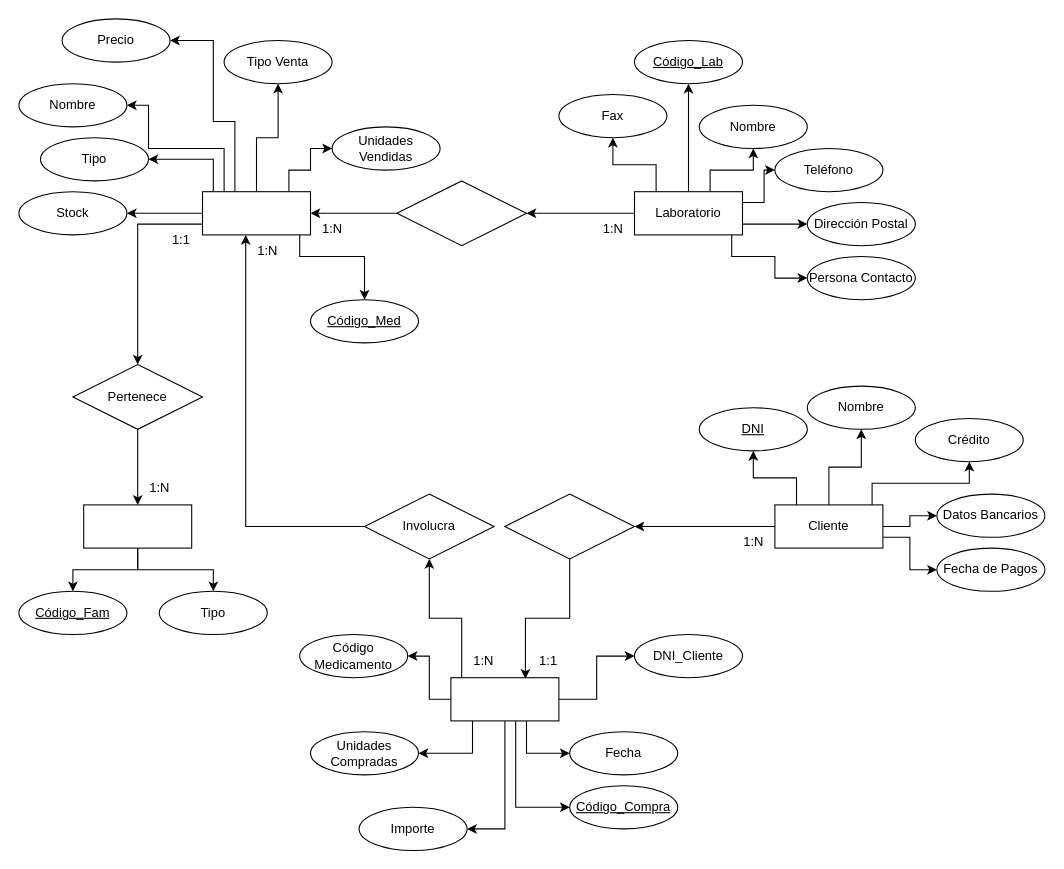
The diagram is 1064 pixels wide and 869 high, and some of its shapes have lost their labels. Each missing label, with the centre of its shape:
Compra: (504,699)
Familia: (137,526)
Medicamento: (255,213)
Realiza: (569,526)
Suministra: (461,213)
